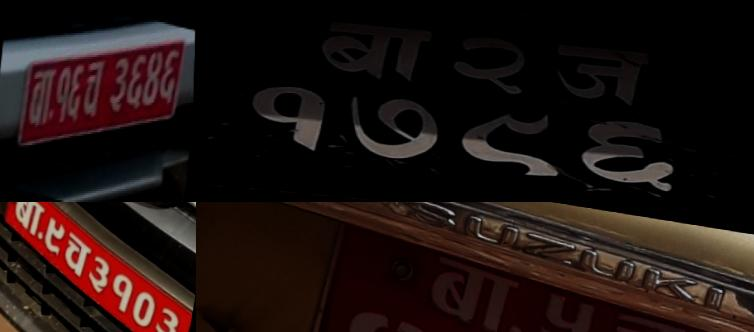0: (129, 284, 161, 331)
1: (237, 76, 340, 155), (53, 58, 75, 130), (107, 268, 137, 315)
2: (442, 30, 544, 99)
3: (109, 51, 131, 118), (86, 252, 115, 294), (152, 299, 183, 332)
4: (323, 296, 444, 332), (143, 43, 165, 113)
5: (529, 278, 603, 332)
6: (574, 113, 696, 191), (158, 41, 183, 110), (125, 46, 148, 115), (68, 58, 90, 124)
7: (329, 89, 455, 172)
9: (444, 99, 588, 185), (39, 212, 68, 257)
ba: (307, 14, 444, 86), (420, 244, 526, 332), (26, 58, 60, 133), (8, 202, 47, 240)
cha: (600, 299, 692, 332), (82, 52, 108, 124), (59, 229, 95, 280)
ja: (537, 37, 675, 114)
